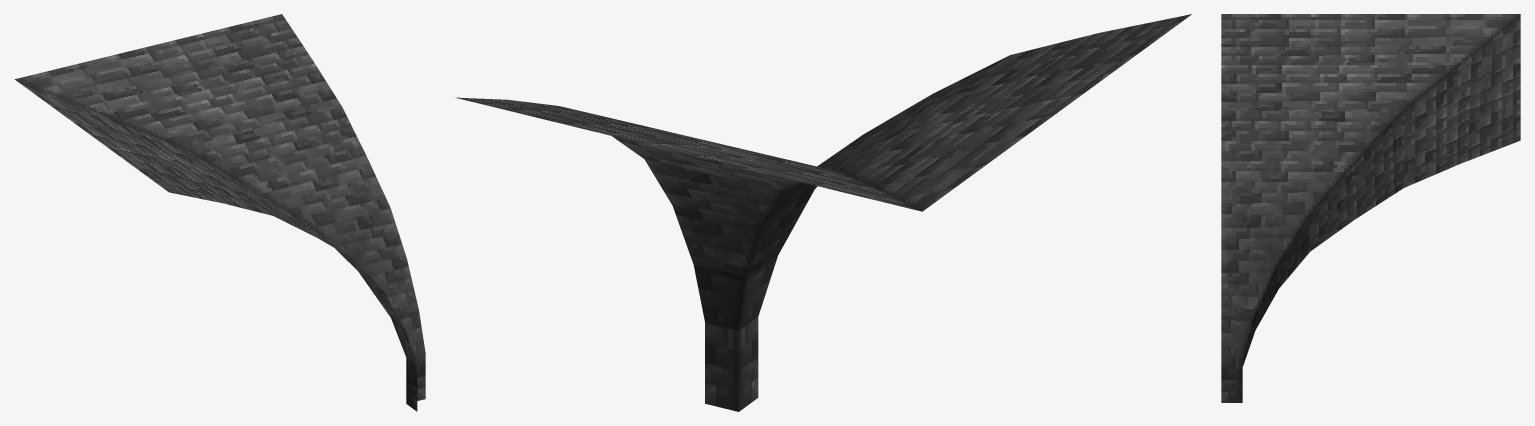
The model's file is MDL_Arched_Ceiling.glb.
The picture shows the model from 3 angles, left to right: view 1: azimuth 30°, elevation 25°; view 2: azimuth 150°, elevation 25°; view 3: azimuth 270°, elevation 25°; orthographic projection. The views are drawn at different scales.
Visible parts, largest first — view 1: ArchedCeiling; view 2: ArchedCeiling; view 3: ArchedCeiling.
Boxes of the visible parts, x1,y1,x2,y2 form: ArchedCeiling: [15, 14, 425, 411]; ArchedCeiling: [455, 14, 1191, 411]; ArchedCeiling: [1221, 14, 1520, 402].
Bounding box in the file's own units: 2.38 × 2.38 × 2.38.
1 material, 1 textured.
